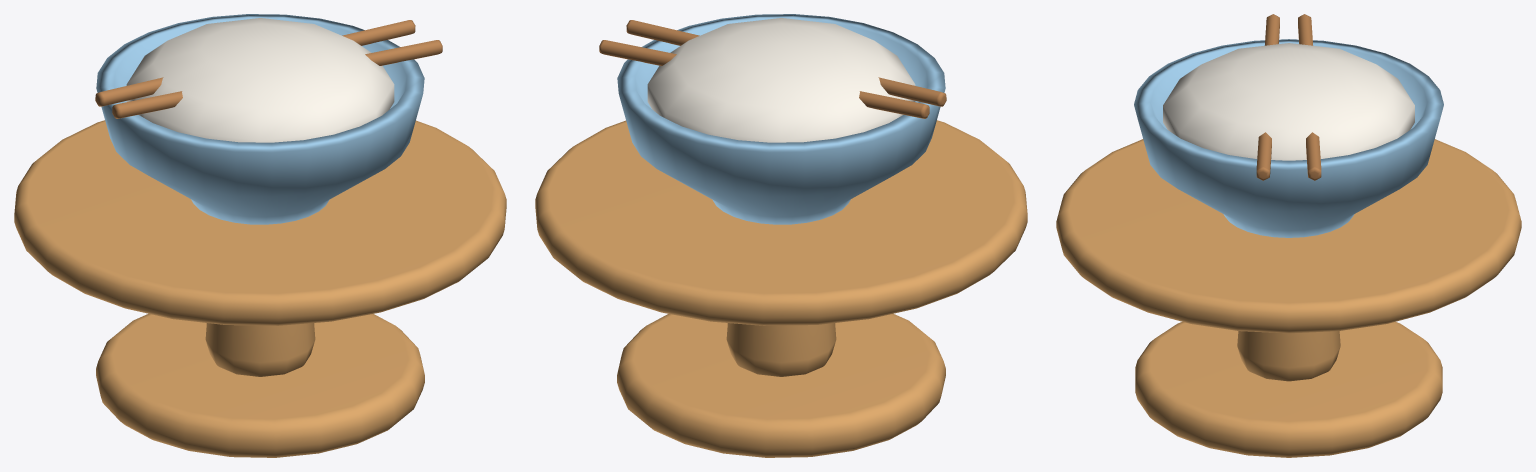
File: dish_rice_bowl.glb
The picture shows the model from 3 angles, left to right: view 1: azimuth 30°, elevation 25°; view 2: azimuth 150°, elevation 25°; view 3: azimuth 270°, elevation 25°; orthographic projection. The views are drawn at different scales.
Visible parts, largest first — view 1: dish_rice_bowl_mesh; view 2: dish_rice_bowl_mesh; view 3: dish_rice_bowl_mesh.
Part boxes in pixels (x1,y1,x2,y2): dish_rice_bowl_mesh: (14, 14, 506, 457); dish_rice_bowl_mesh: (535, 14, 1027, 457); dish_rice_bowl_mesh: (1056, 14, 1521, 457).
Bounding box in the file's own units: 0.36 × 0.282 × 0.36.
